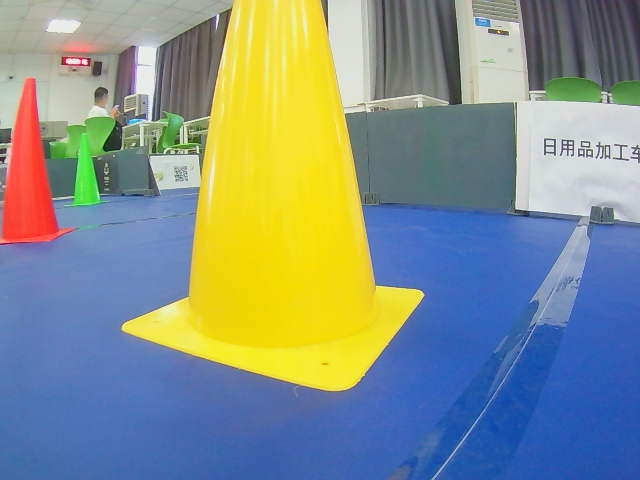target: (543, 137, 640, 164)
